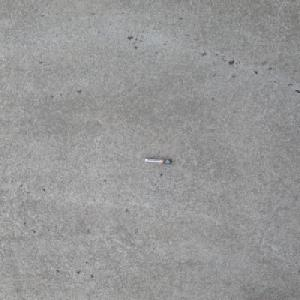Battery: (144, 158, 172, 164)
